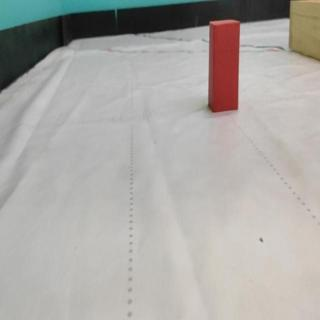redbox: (207, 18, 241, 113)
